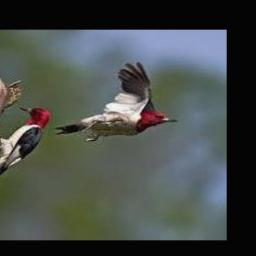Woodpecker: (54, 62, 178, 142), (0, 106, 52, 187)
